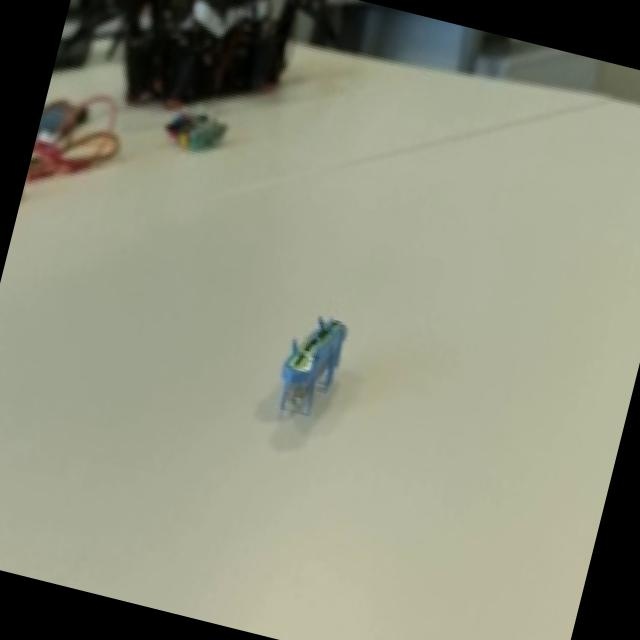3_NanoBug_Celeste: (234, 277, 376, 458)
